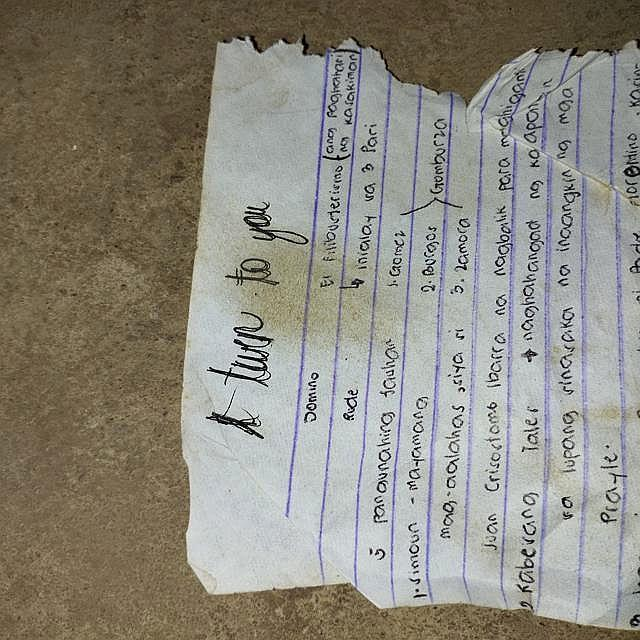Biodegradable: (183, 37, 640, 635)
